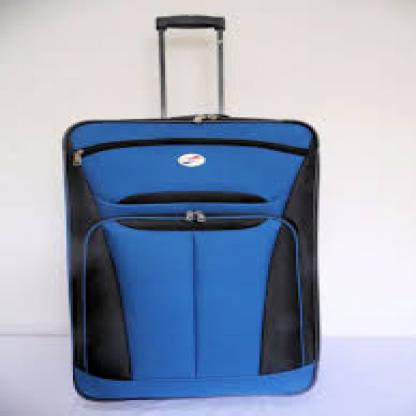maleta: (24, 6, 336, 402)
